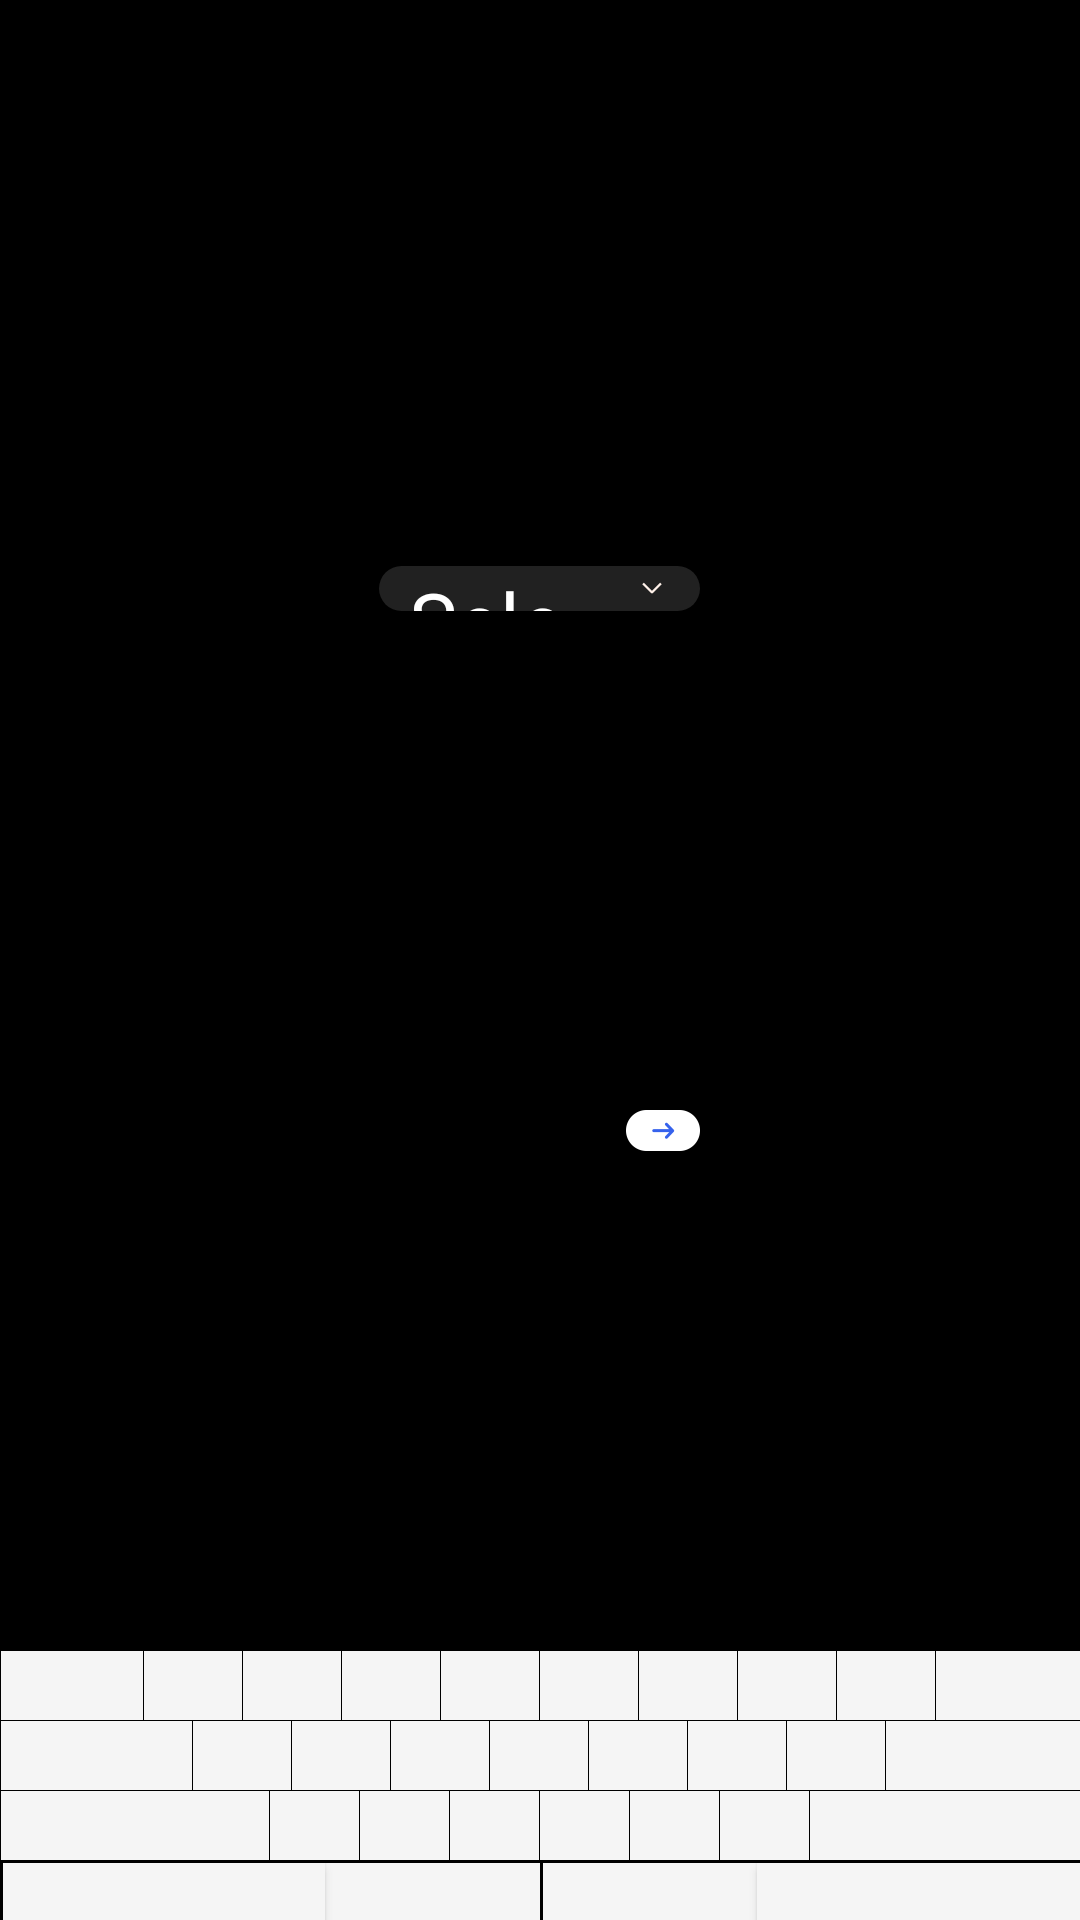

Icon click points for this 1080*1920 phone screenshot, format (x,y):
password commit: (663,1130)
